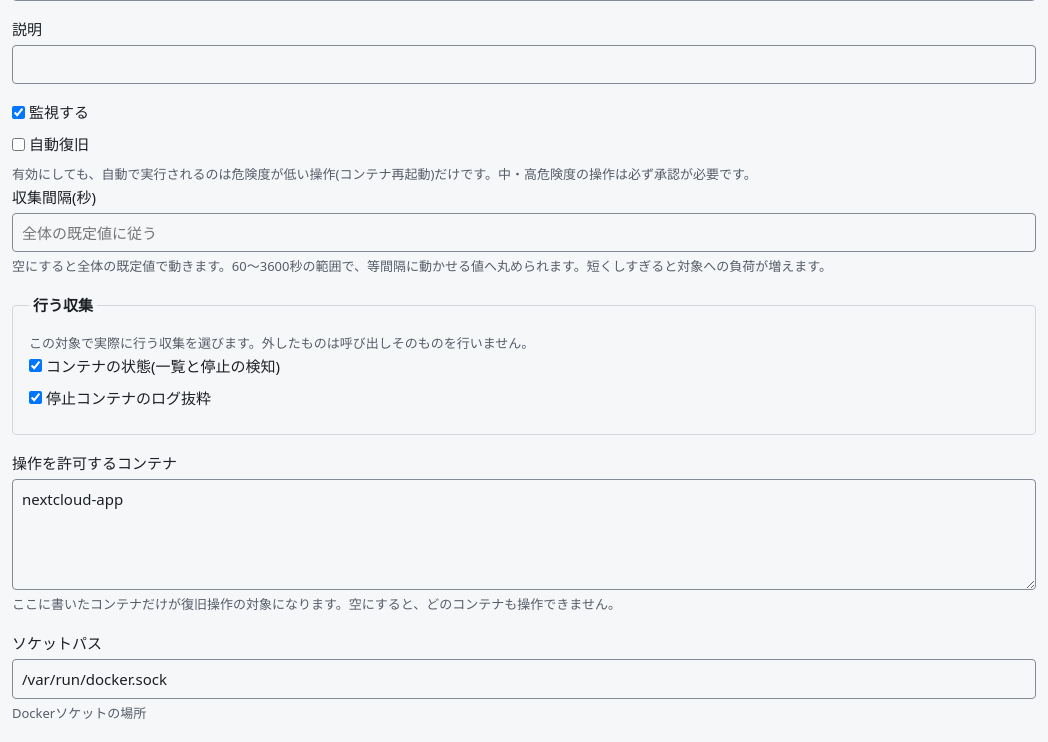
Test: TargetDetailView › すべて外すと既定に戻ることを伝える
(page scrolled)
Click the checkbox with test id "monitor-container-state" at point(36, 366), box [29,360,42,372]
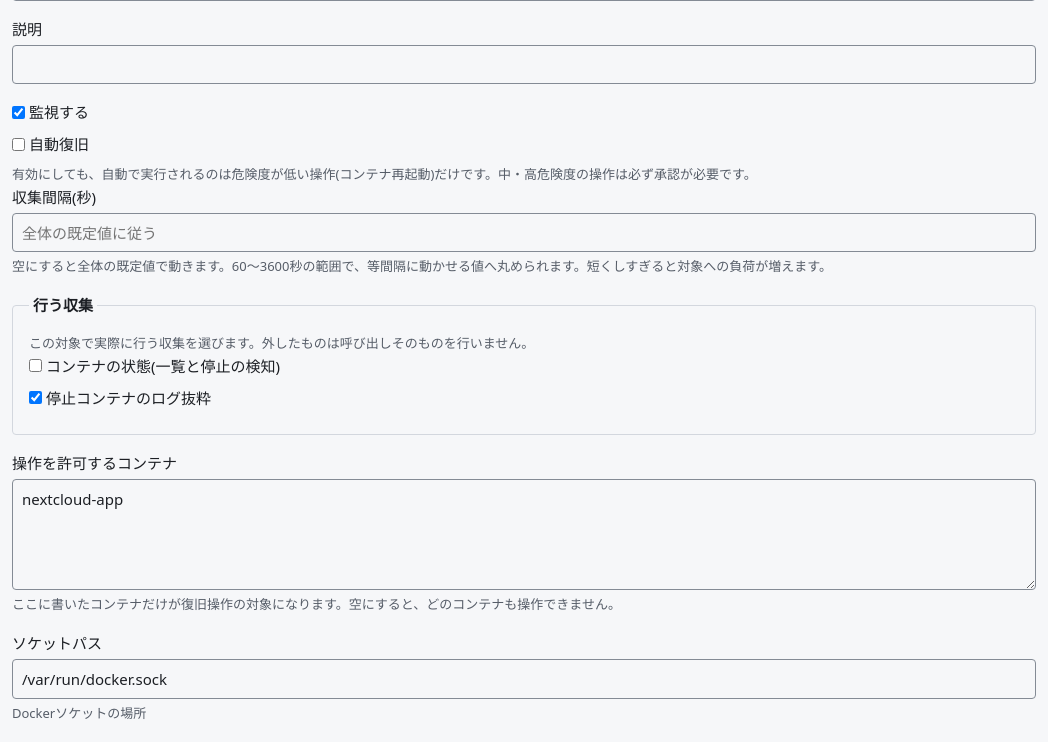
Click the checkbox with test id "monitor-log-excerpt" at point(36, 398), box [29,392,42,404]
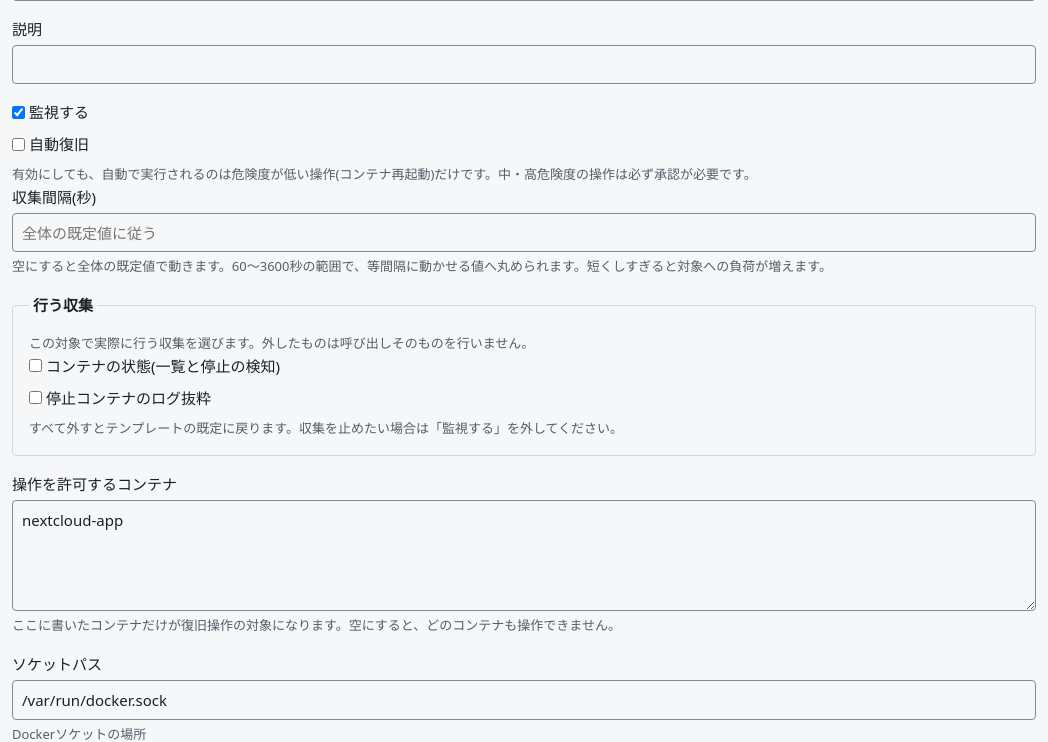
Now the text "テンプレートの既定に戻ります" is shown, box [29,419,623,437]
